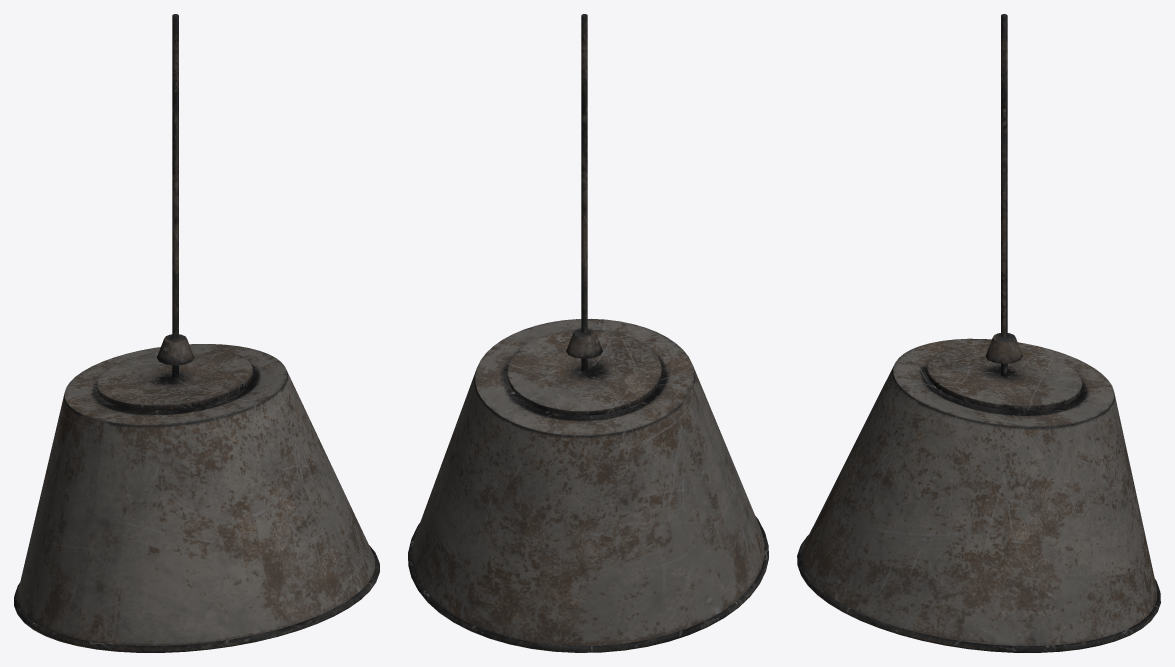
Rendered from lampa.fbx.
3 views of the same model, side by side, from view 1: azimuth 30°, elevation 25°; view 2: azimuth 150°, elevation 25°; view 3: azimuth 270°, elevation 25° (orthographic).
Visible parts, largest first — view 1: Sphere001__0; view 2: Sphere001__0; view 3: Sphere001__0.
Part boxes in pixels (x1,y1,x2,y2): Sphere001__0: (14,14,379,652); Sphere001__0: (408,14,768,652); Sphere001__0: (797,14,1160,652).
Bounding box in the file's own units: 37.92 × 66.63 × 37.72.
Materials: 1 (1 with a texture image).
